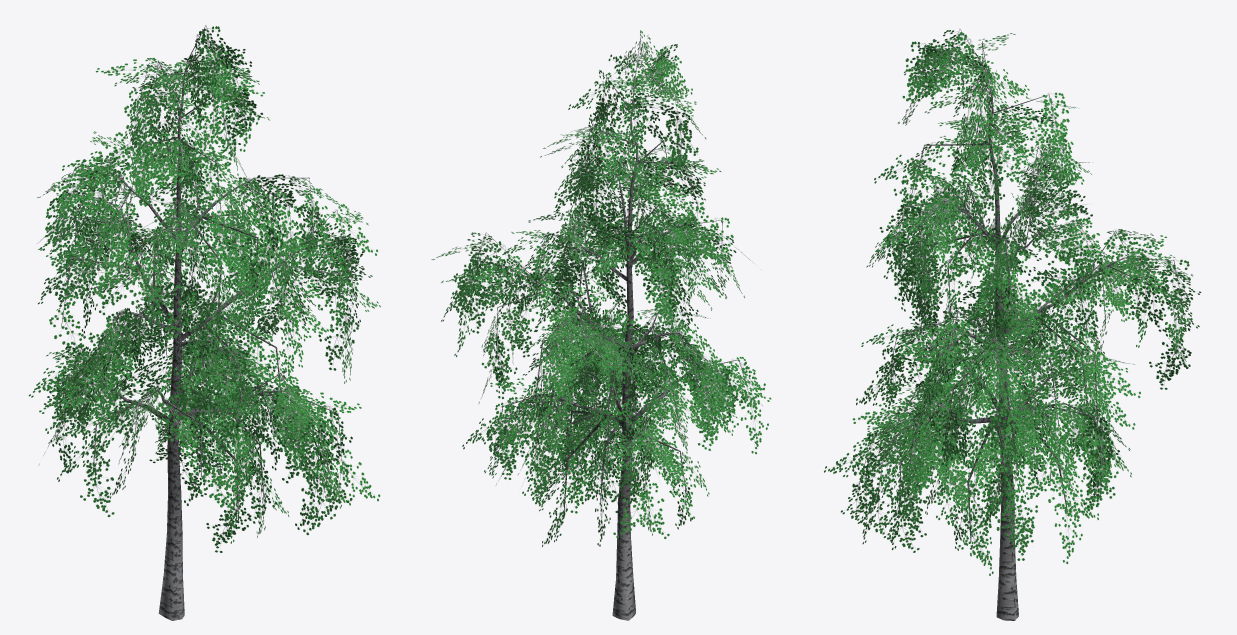
Rendered from arbre_bouleau1.glb.
3 renders of one model, left to right at view 1: azimuth 30°, elevation 25°; view 2: azimuth 150°, elevation 25°; view 3: azimuth 270°, elevation 25°, orthographic. The views are drawn at different scales.
Visible parts, largest first — view 1: arbre_bouleau1; view 2: arbre_bouleau1; view 3: arbre_bouleau1.
Part boxes in pixels (x1,y1,x2,y2): arbre_bouleau1: (28, 25, 380, 620); arbre_bouleau1: (431, 30, 771, 620); arbre_bouleau1: (824, 28, 1201, 620).
Bounding box in the file's own units: 7.03 × 11.6 × 6.99.
2 materials, 2 textured.
